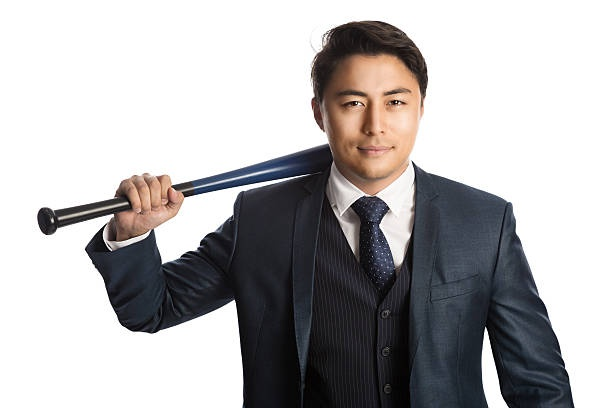bita: (37, 142, 334, 233)
